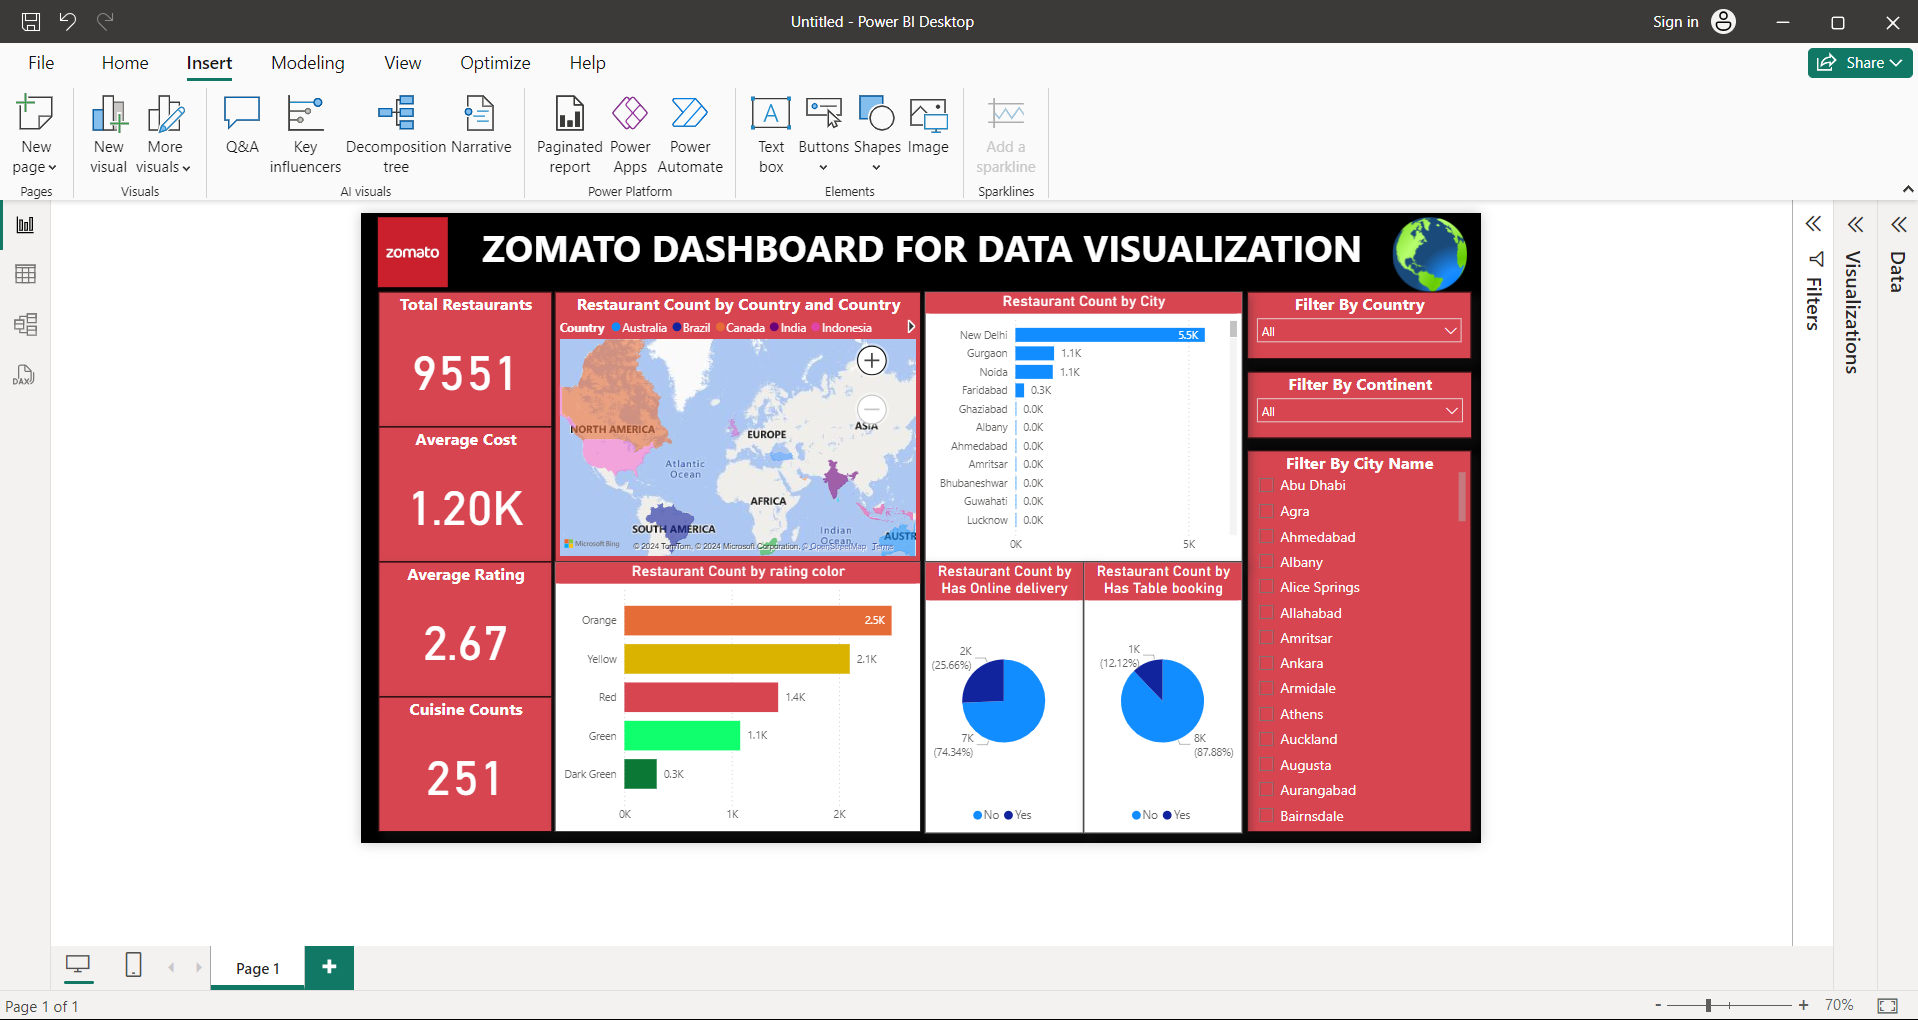

The page's visual inventory and layout, read from the dashboard file:
{"tool":"powerbi","page":{"name":"Page 1","canvas":[1280,720],"ordinal":0},"visuals":[{"type":"card","title":"Total Restaurants","fields":{"Values":["Zomato Global.Restaurant Count"]},"box":[19.6,89.9,198.7,154.5],"z":0},{"type":"card","title":"Average Cost","fields":{"Values":["Fact Table.Avg Cost"]},"box":[19.6,244.4,198.7,154.5],"z":1000},{"type":"card","title":"Average Rating","fields":{"Values":["Fact Table.Avg Rating"]},"box":[19.6,398.9,198.7,154.5],"z":2000},{"type":"card","title":"Cuisine Counts","fields":{"Values":["Cusines.Cuisines Count"]},"box":[19.6,553.4,198.7,154.5],"z":3000},{"type":"filledMap","fields":{"Category":["Country-Code.Country"],"Series":["Country-Code.Country"]},"box":[221.4,90,418.6,308.6],"z":4000},{"type":"slicer","title":"Filter By Country","fields":{"Values":["Country-Code.Country"]},"box":[1012.9,90.3,255.7,77.1],"z":5000},{"type":"slicer","title":"Filter By Continent","fields":{"Values":["Country-Code.Continent"]},"box":[1012.9,181.7,257.1,75.7],"z":6000},{"type":"slicer","title":"Filter By City Name","fields":{"Values":["Zomato Global.City"]},"box":[1012.9,271.7,255.7,435.7],"z":7000},{"type":"clusteredBarChart","fields":{"Category":["Zomato Global.City"],"Y":["Zomato Global.Restaurant Count"]},"box":[644.3,90,362.9,308.6],"z":8000},{"type":"clusteredBarChart","fields":{"Y":["Zomato Global.Restaurant Count"],"Category":["Fact Table.rating color"]},"box":[221.4,398.6,418.6,308.6],"z":9000},{"type":"pieChart","fields":{"Category":["Fact Table.Has Online delivery"],"Y":["Zomato Global.Restaurant Count"]},"box":[644.3,398.6,181.4,310],"z":10000},{"type":"pieChart","fields":{"Category":["Fact Table.Has Table booking"],"Y":["Zomato Global.Restaurant Count"]},"box":[825.7,398.6,181.4,310],"z":11000},{"type":"image","box":[0,0,118.6,90],"z":11001},{"type":"image","box":[1174.3,0,94.3,94.3],"z":11002},{"type":"textbox","box":[104.3,4.3,1074.3,81.4],"z":11003}]}

Visuals, with their boxes on the page's 1280x720 design canvas (x1, y1, x2, y2). These are canvas units, not pixel positions in the 1918x1020 screenshot, which may show the page scaled, cropped or inside an application window:
"Total Restaurants" card: (20, 90, 218, 244)
"Average Cost" card: (20, 244, 218, 399)
"Average Rating" card: (20, 399, 218, 553)
"Cuisine Counts" card: (20, 553, 218, 708)
filledMap - Country-Code.Country x Country-Code.Country: (221, 90, 640, 399)
"Filter By Country" slicer: (1013, 90, 1269, 167)
"Filter By Continent" slicer: (1013, 182, 1270, 257)
"Filter By City Name" slicer: (1013, 272, 1269, 707)
clusteredBarChart - Zomato Global.City x Zomato Global.Restaurant Count: (644, 90, 1007, 399)
clusteredBarChart - Zomato Global.Restaurant Count x Fact Table.rating color: (221, 399, 640, 707)
pieChart - Fact Table.Has Online delivery x Zomato Global.Restaurant Count: (644, 399, 826, 709)
pieChart - Fact Table.Has Table booking x Zomato Global.Restaurant Count: (826, 399, 1007, 709)
image: (0, 0, 119, 90)
image: (1174, 0, 1269, 94)
textbox: (104, 4, 1179, 86)
